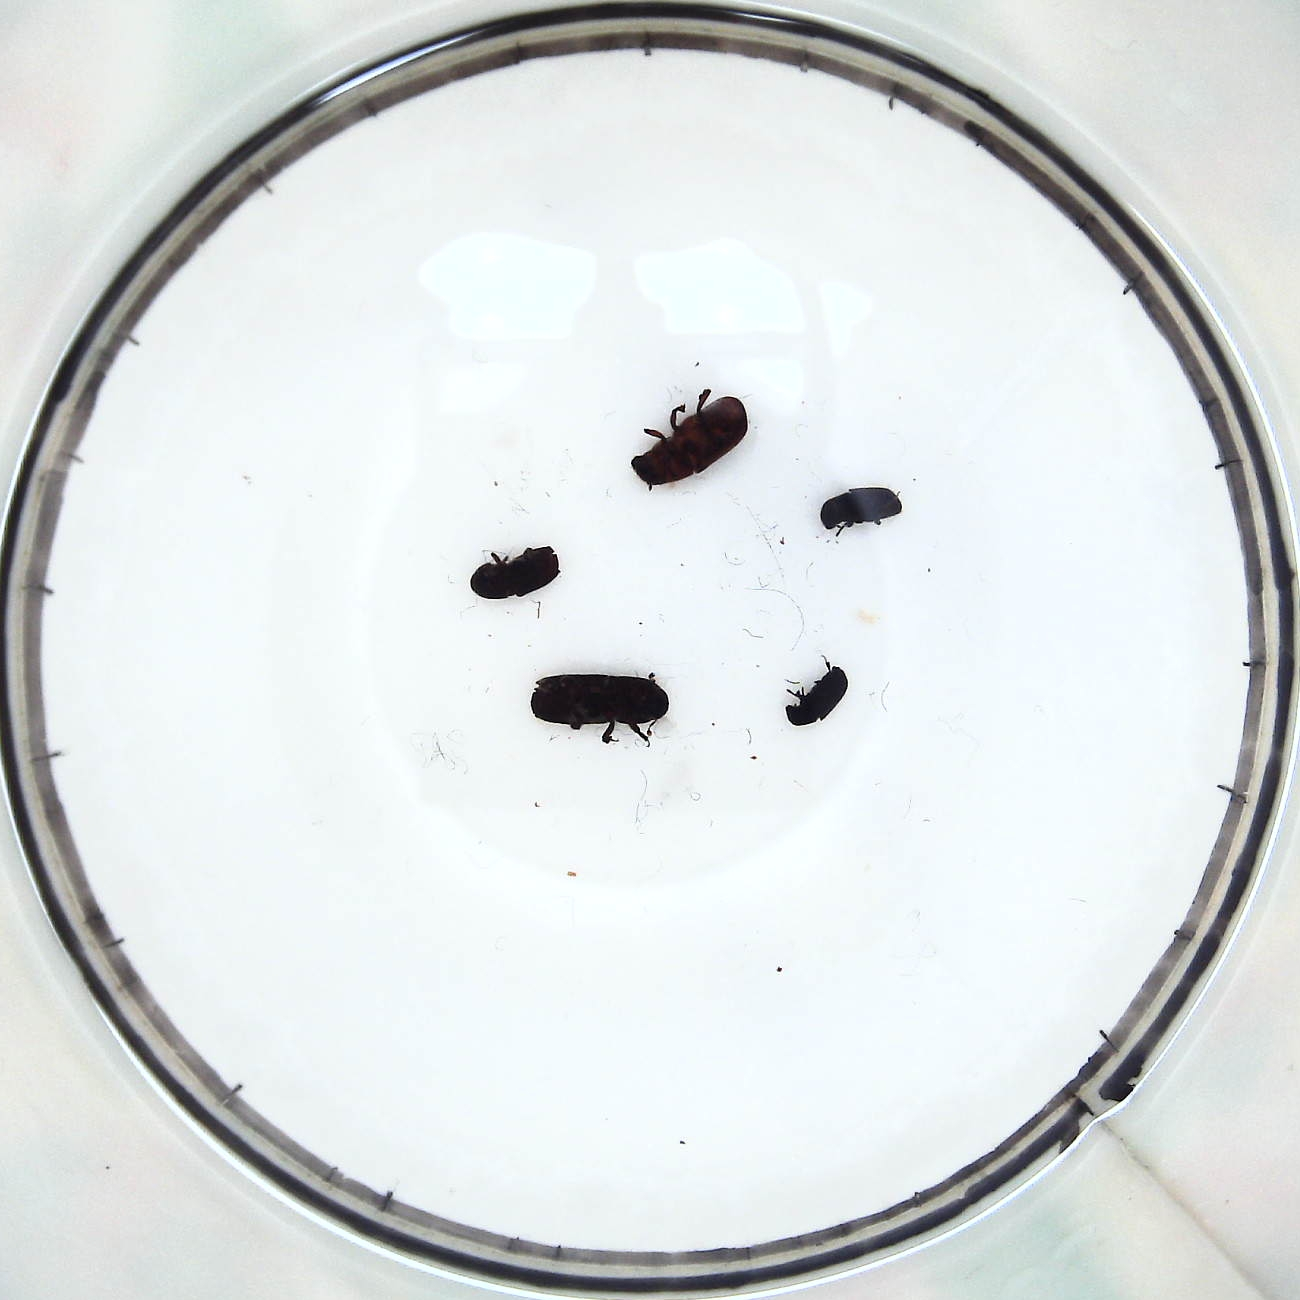Boerner: (529, 673, 671, 735)
Leconte: (629, 392, 749, 485)
Linnaeus: (471, 546, 561, 604)
armandi: (817, 487, 904, 529)
coleoptera: (788, 665, 846, 732)
